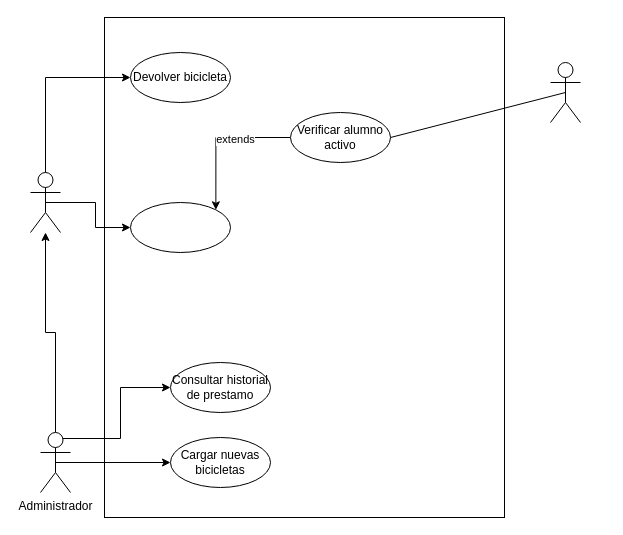
The diagram is 623 pixels wide and 535 high, and some of its shapes have lost their labels. Each missing label, with the centre of its shape:
Estudiante: the point at 45,202
Realizar prestamo: the point at 180,227
Servidor UNLP: the point at 565,92
